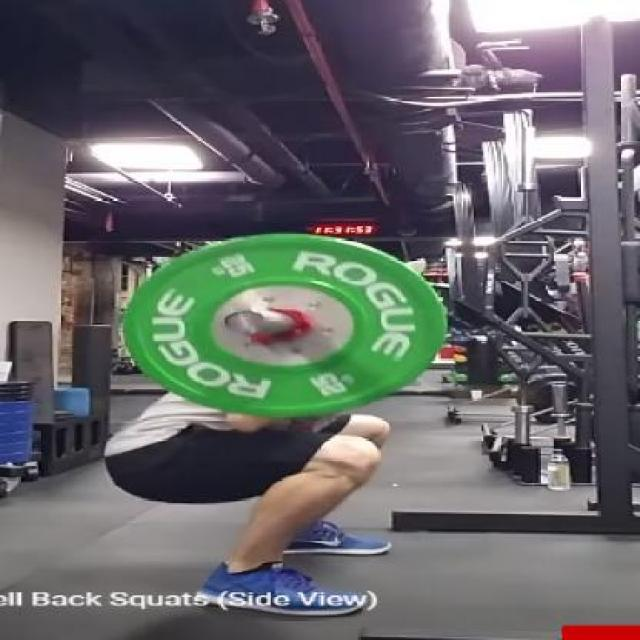Barbell: (219, 306, 284, 337)
